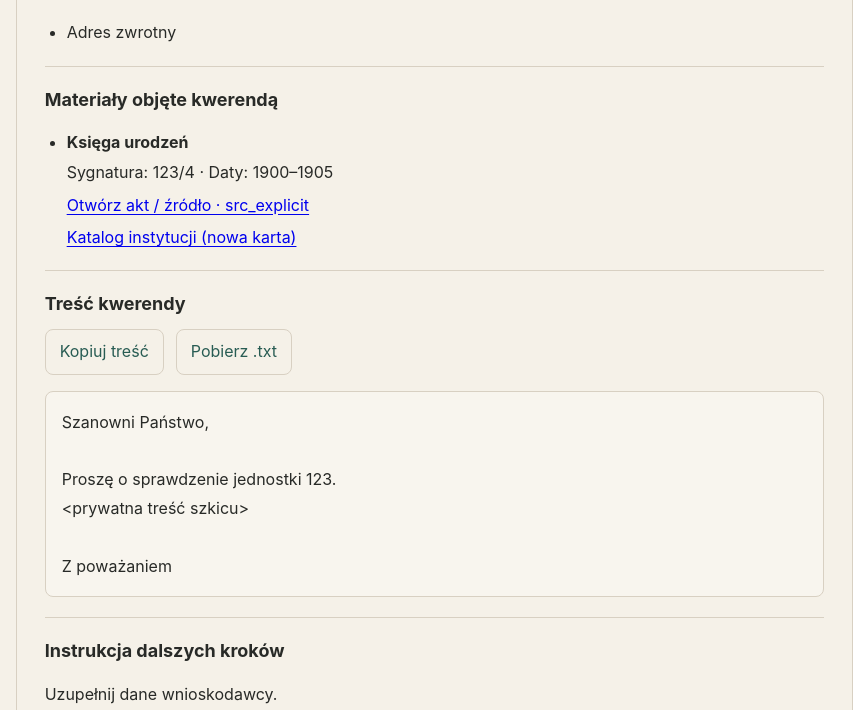
Test case: ArchiveRequestsView › copies exact plain text and provides visible success and failure feedback
(page scrolled)
Click the button "Kopiuj treść" at {"x": 104, "y": 352}, box [45,330,164,375]
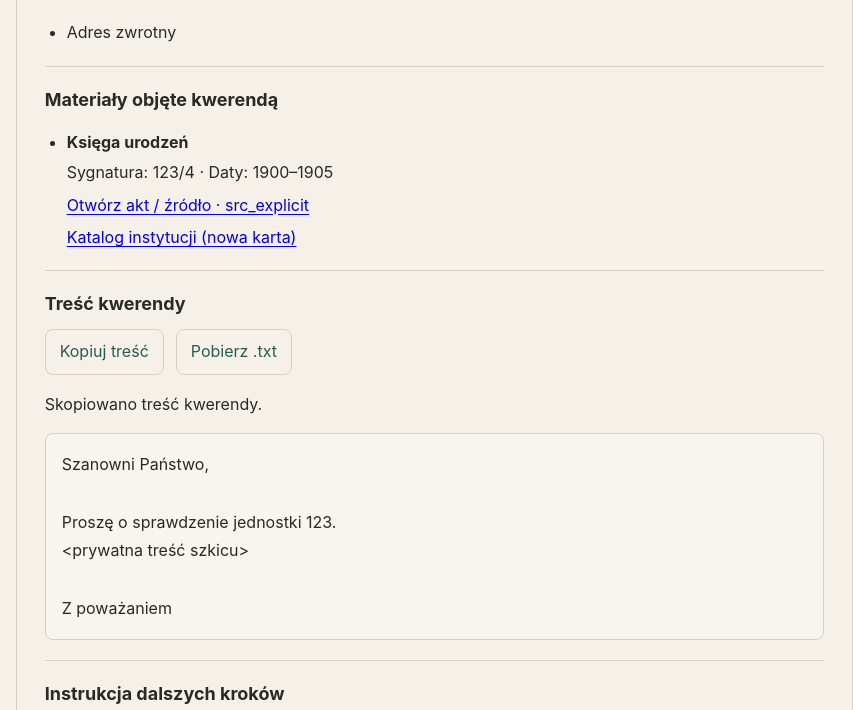
Check: the text "Skopiowano treść kwerendy" is shown, box [45,394,262,414]
Click the button "Kopiuj treść" at {"x": 104, "y": 352}, box [45,330,164,375]
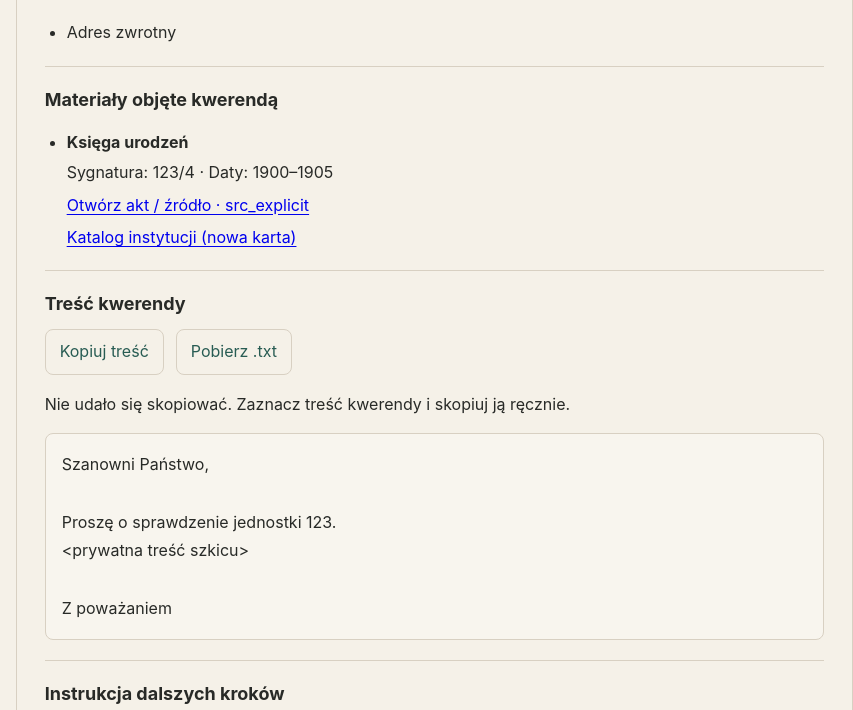
Check: the text "Zaznacz treść kwerendy i skopiuj ją ręcznie" is shown, box [45,394,570,414]
